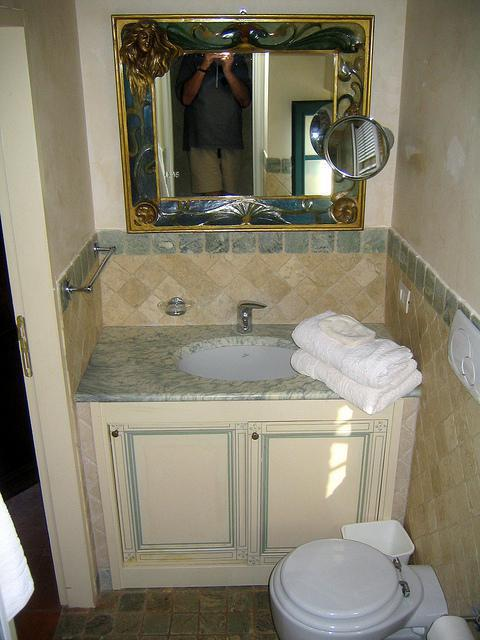Bote de Basura: (328, 503, 418, 599)
Lavamanos: (172, 297, 333, 390)
Sanitario: (254, 524, 449, 639)
